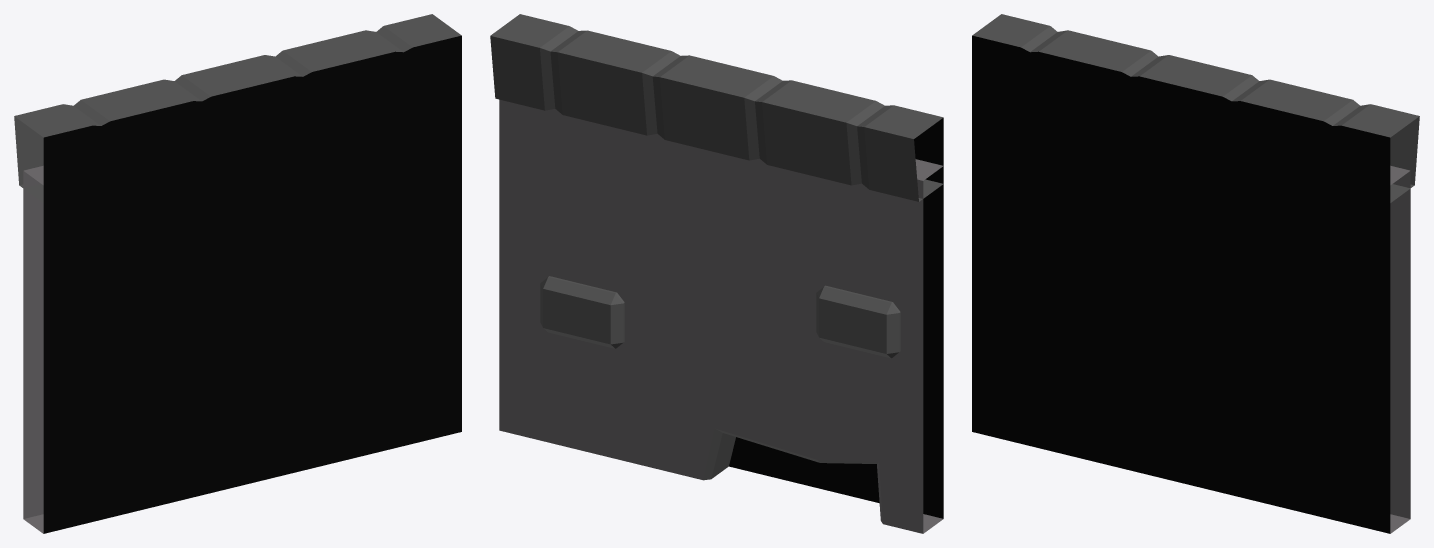
The model's file is Wall_8.fbx.
The picture shows the model from 3 angles, left to right: view 1: azimuth 30°, elevation 25°; view 2: azimuth 150°, elevation 25°; view 3: azimuth 330°, elevation 25°; orthographic projection.
Parts seen in each view (by area): view 1: Wall_8; view 2: Wall_8; view 3: Wall_8.
Part boxes in pixels (x1=…): Wall_8: x1=14, y1=14, x2=461, y2=533; Wall_8: x1=490, y1=14, x2=943, y2=533; Wall_8: x1=972, y1=14, x2=1419, y2=533.
Bounding box in the file's own units: 200 × 181 × 24.35.
